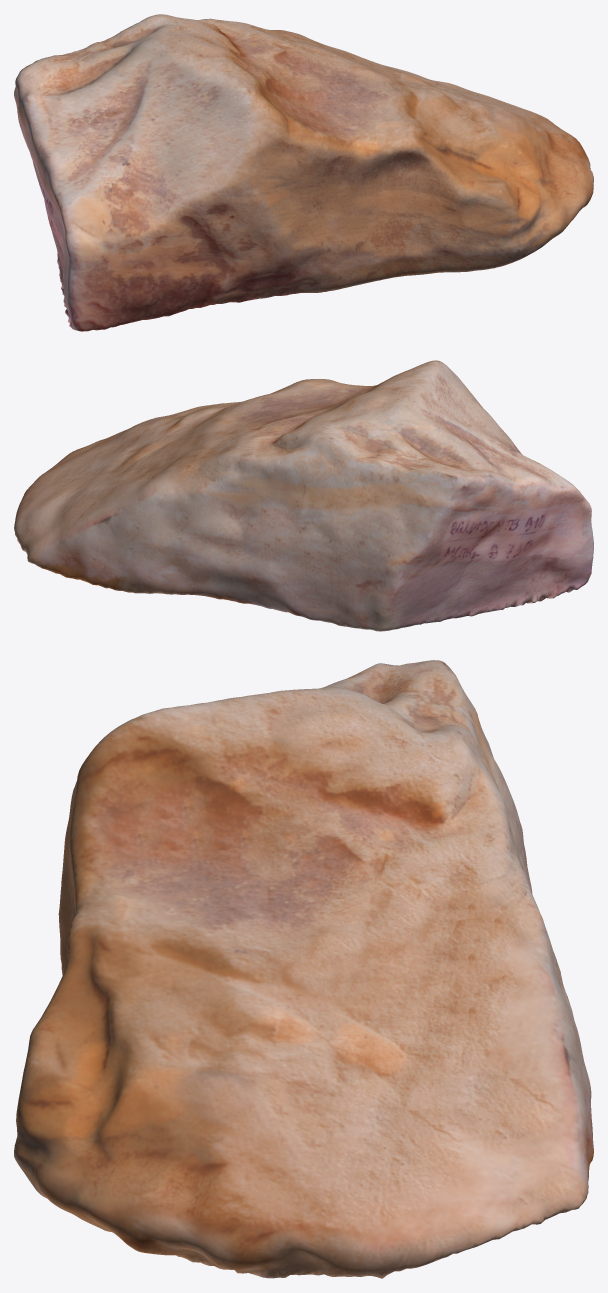
The picture shows the model from 3 angles, top to bottom: view 1: azimuth 30°, elevation 25°; view 2: azimuth 150°, elevation 25°; view 3: azimuth 270°, elevation 25°; orthographic projection. The views are drawn at different scales.
Parts seen in each view (by area): view 1: Da6.002; view 2: Da6.002; view 3: Da6.002.
Part boxes in pixels (x1=…): Da6.002: x1=14, y1=14, x2=593, y2=331; Da6.002: x1=14, y1=360, x2=593, y2=631; Da6.002: x1=14, y1=660, x2=593, y2=1278.
Size of the model in its own units: 1.46 by 0.5455 by 0.9013.
Materials: 1 (1 with a texture image).
